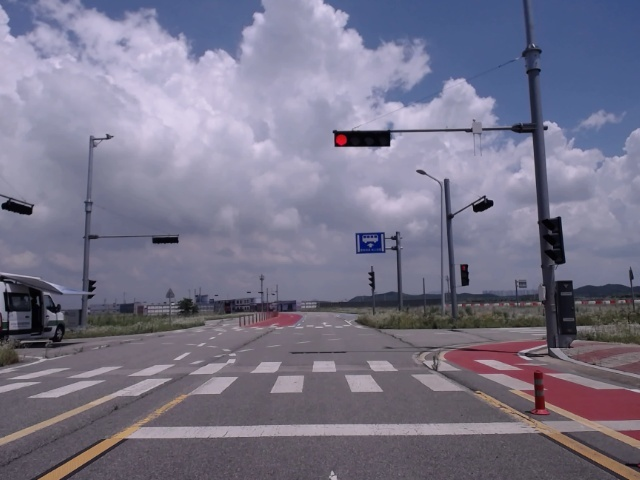red_4: (334, 132, 390, 147)
